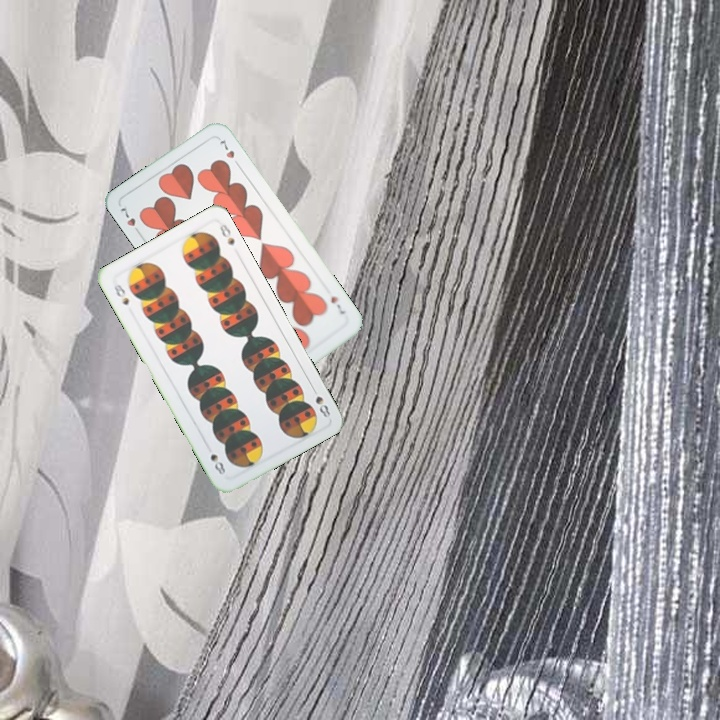H7: (116, 202, 144, 238), (327, 292, 348, 317)
S8: (307, 382, 333, 420), (110, 280, 132, 308)
